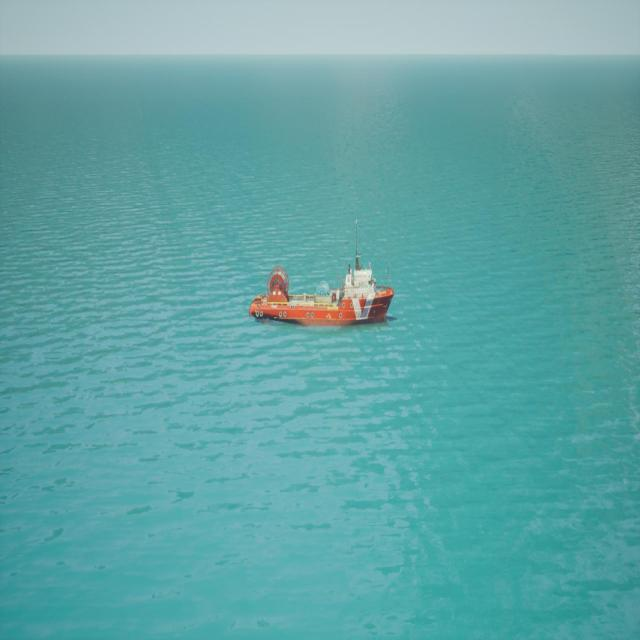tug boat: (248, 223, 398, 332)
